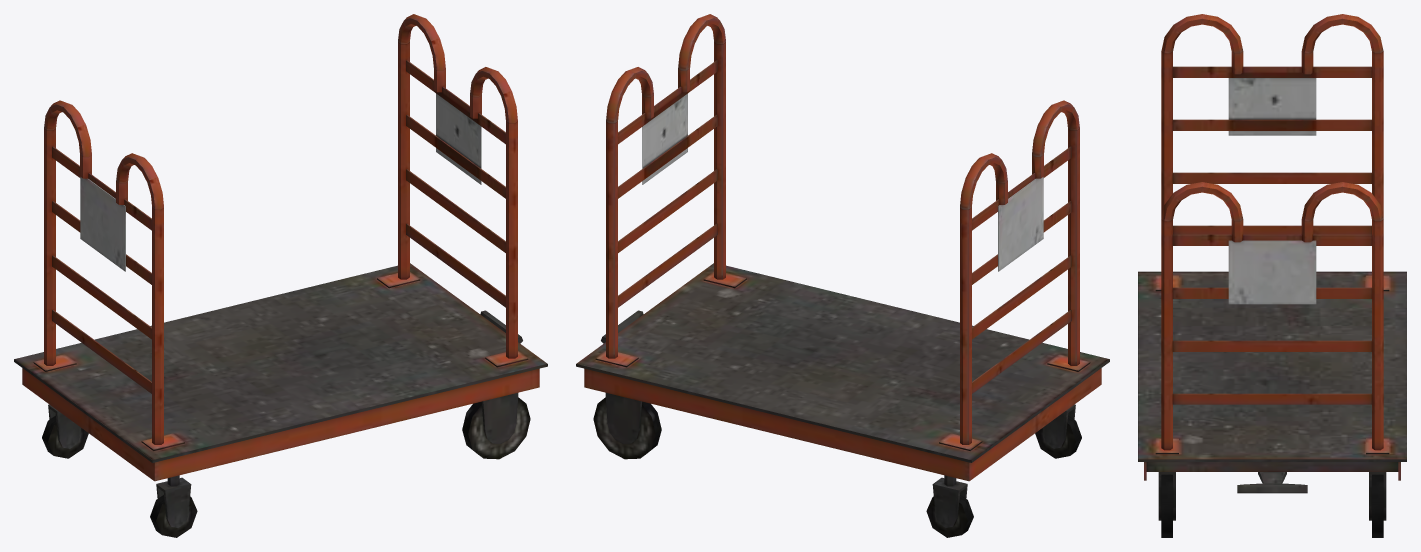
Rendered from PushCart01a.glb.
3 renders of one model, left to right at view 1: azimuth 30°, elevation 25°; view 2: azimuth 150°, elevation 25°; view 3: azimuth 270°, elevation 25°, orthographic. The views are drawn at different scales.
Visible parts, largest first — view 1: 0_pushcart01a; view 2: 0_pushcart01a; view 3: 0_pushcart01a.
Part boxes in pixels (x1,y1,x2,y2): 0_pushcart01a: [14, 14, 547, 537]; 0_pushcart01a: [576, 14, 1109, 537]; 0_pushcart01a: [1138, 14, 1406, 537].
Bounding box in the file's own units: 2.06 × 1.73 × 1.17.
Materials: 1 (1 with a texture image).
